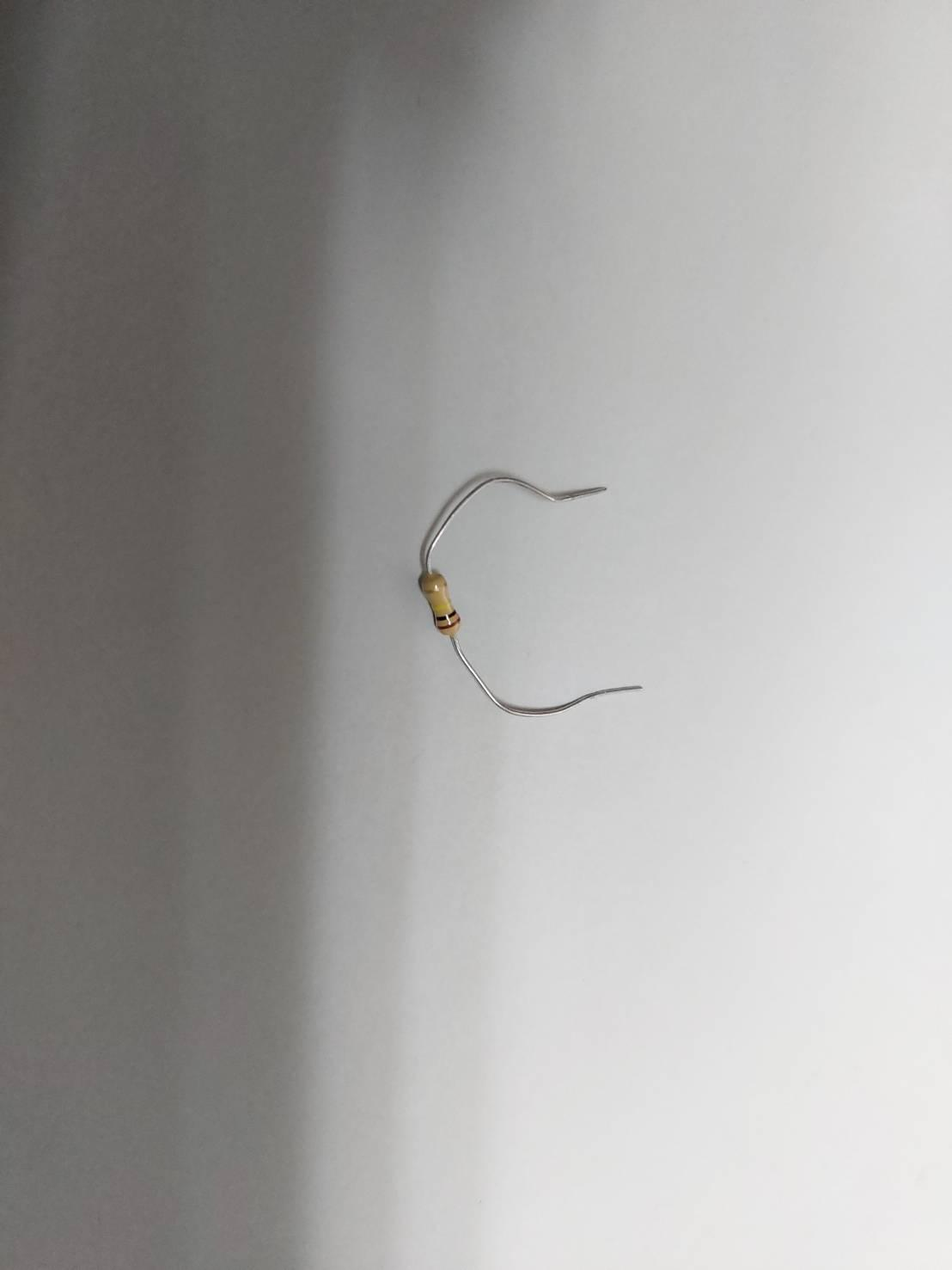resistor: (416, 567, 468, 640)
